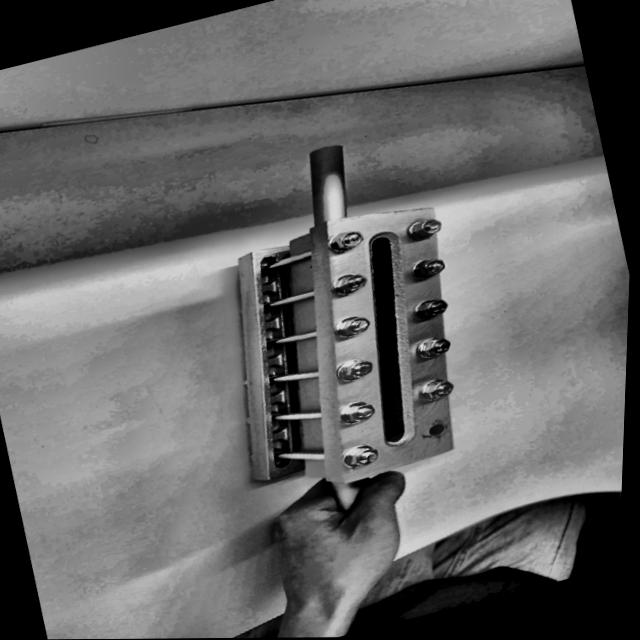ShuiWeiQi_11: (135, 90, 600, 542)
